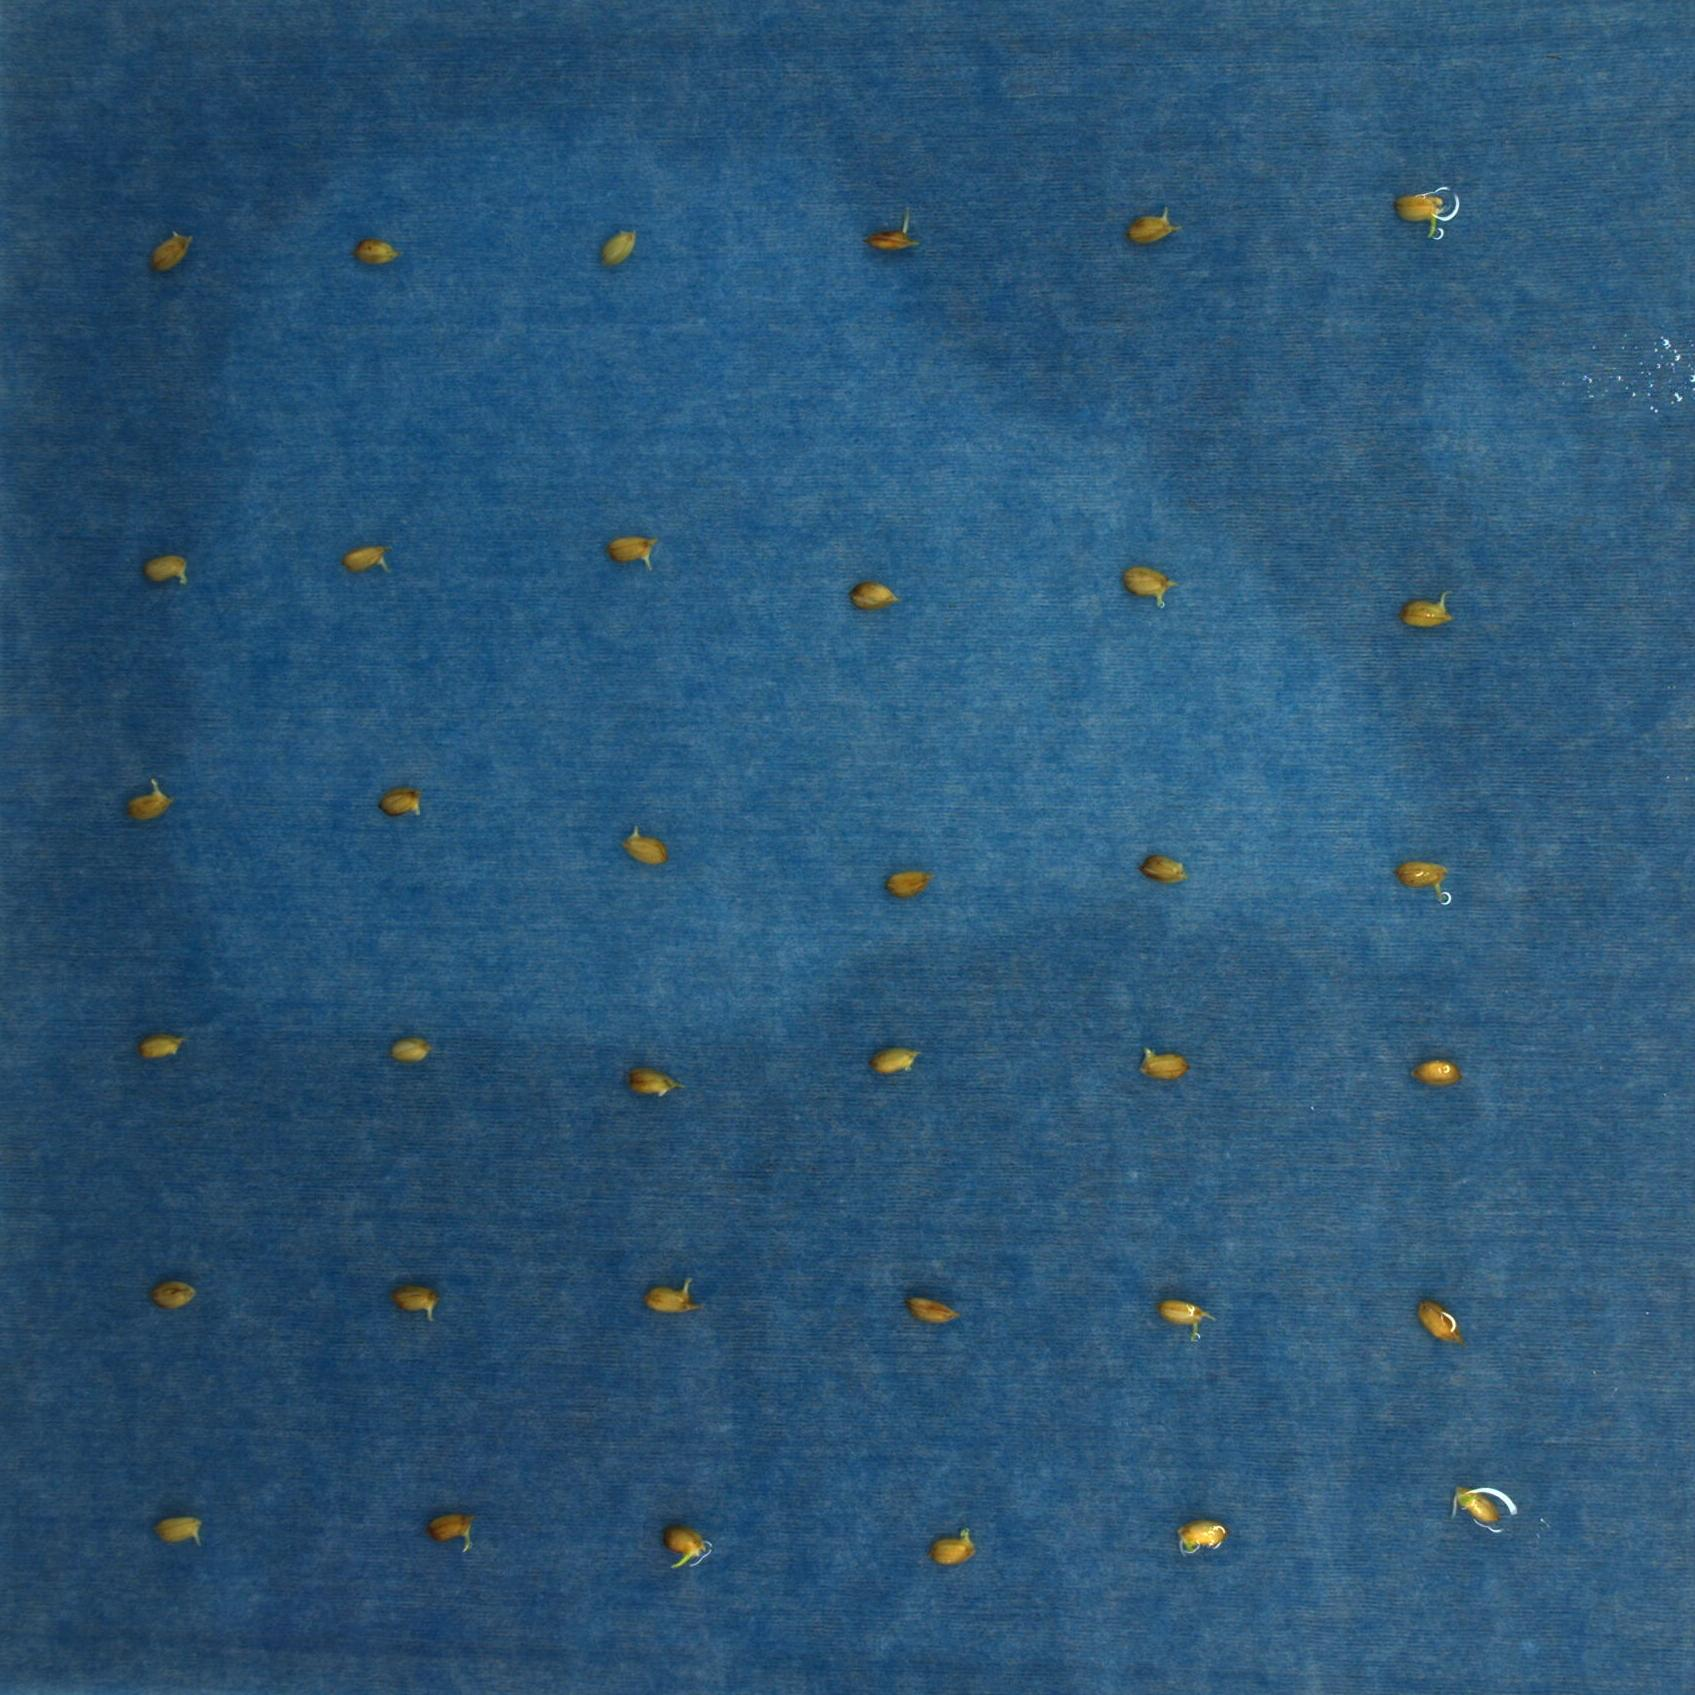not sprout: (1392, 858, 1448, 905), (1124, 563, 1181, 608), (640, 1277, 705, 1315), (146, 230, 199, 275), (1122, 206, 1181, 245), (1400, 590, 1459, 629), (598, 224, 641, 275), (121, 778, 172, 821), (1419, 1299, 1465, 1346), (618, 826, 667, 868), (1451, 1485, 1504, 1524), (1177, 1520, 1229, 1557), (427, 1510, 475, 1551), (349, 234, 404, 269), (152, 1513, 203, 1548), (143, 553, 189, 590), (908, 1293, 961, 1326), (391, 1287, 439, 1322), (1138, 1046, 1187, 1080), (610, 536, 661, 568), (624, 1066, 683, 1094), (931, 1527, 973, 1566), (886, 869, 938, 900), (1411, 1059, 1464, 1088), (341, 545, 391, 574), (847, 584, 899, 612), (1138, 854, 1186, 883), (379, 785, 424, 816), (151, 1279, 196, 1310), (871, 1048, 917, 1077), (386, 1034, 432, 1062), (138, 1032, 182, 1059)
sprout: (858, 206, 913, 258), (1392, 192, 1450, 241), (1156, 1298, 1212, 1346), (661, 1526, 708, 1568)
